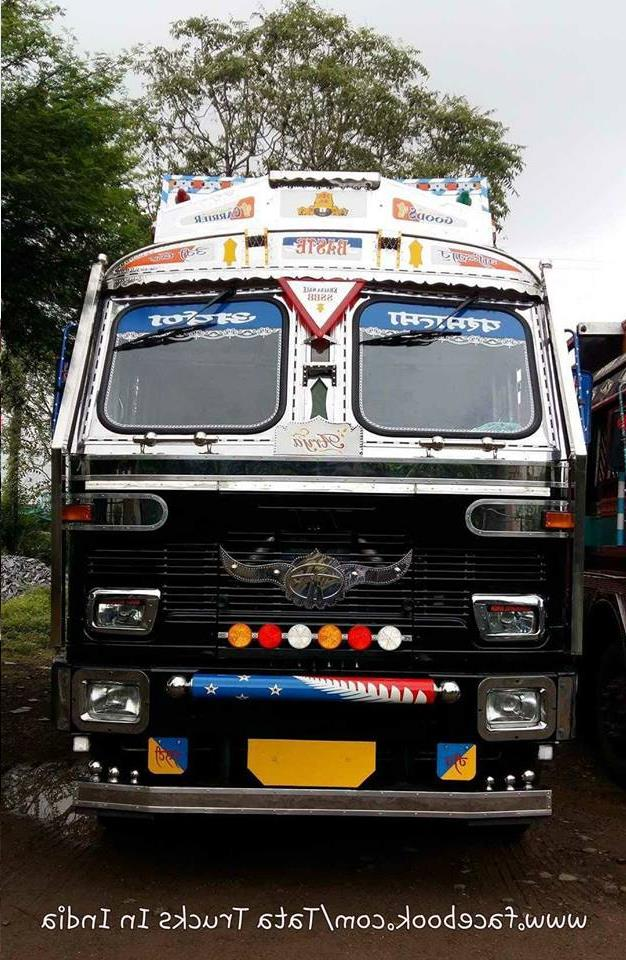truck: (57, 170, 583, 836)
